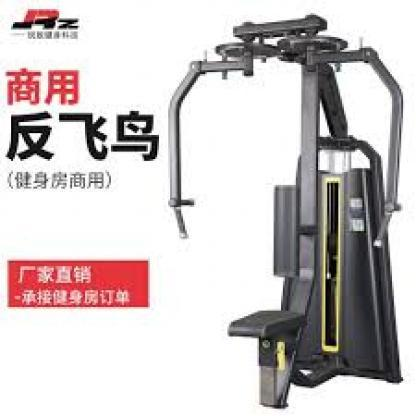chest fly machine: (146, 2, 416, 414)
